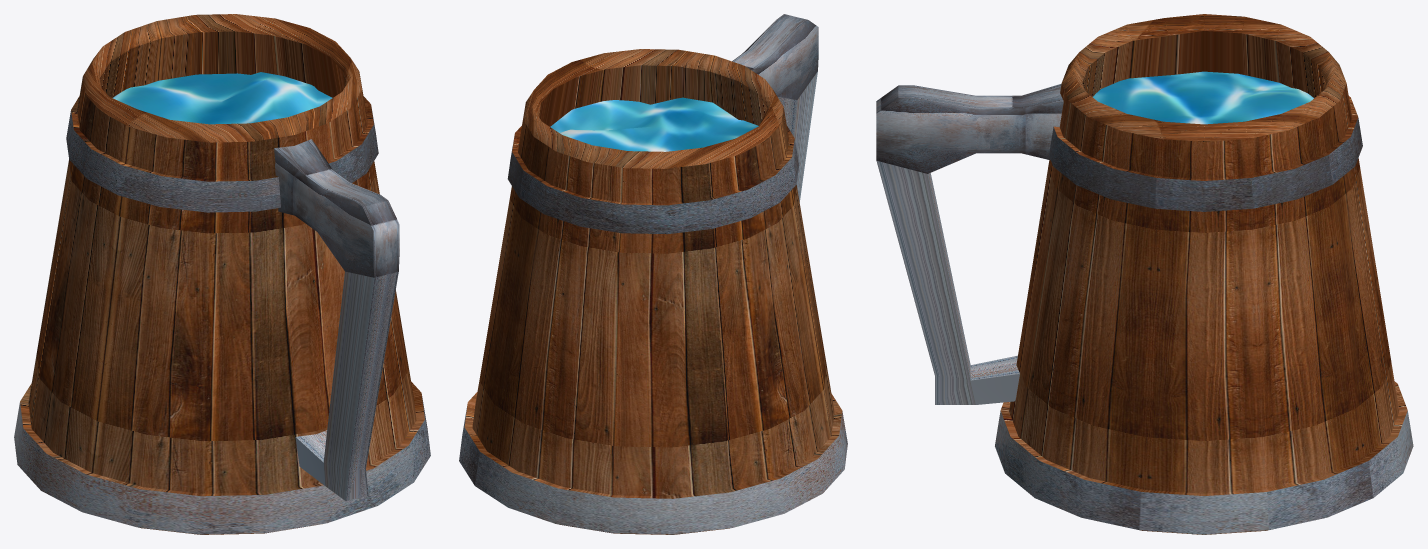
File: Mug.fbx
3 views of the same model, side by side, from view 1: azimuth 30°, elevation 25°; view 2: azimuth 150°, elevation 25°; view 3: azimuth 270°, elevation 25° (orthographic). The views are drawn at different scales.
Parts seen in each view (by area): view 1: MUG_MAIN_BODY, HANDLE, WATER_EFFECT; view 2: MUG_MAIN_BODY, WATER_EFFECT, HANDLE; view 3: MUG_MAIN_BODY, HANDLE, WATER_EFFECT.
Part boxes in pixels (x1,y1,x2,y2): MUG_MAIN_BODY: [14, 14, 430, 534]; HANDLE: [274, 139, 399, 500]; WATER_EFFECT: [112, 72, 332, 124]; MUG_MAIN_BODY: [459, 49, 847, 534]; WATER_EFFECT: [550, 97, 758, 151]; HANDLE: [732, 14, 818, 201]; MUG_MAIN_BODY: [995, 14, 1413, 534]; HANDLE: [876, 83, 1063, 404]; WATER_EFFECT: [1093, 71, 1313, 124].
Bounding box in the file's own units: 2.08 × 2.09 × 2.67.
Materials: 4 (4 with a texture image).
